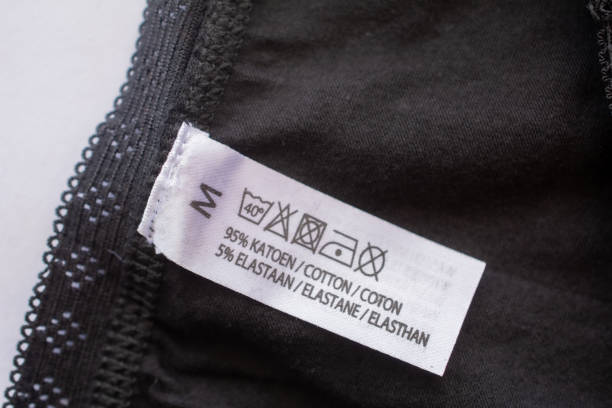ER_iron_low_temp: (314, 224, 363, 272)
ER_no_bleach: (257, 196, 306, 244)
ER_no_dry_clean: (352, 236, 393, 285)
ER_no_tumble_dry: (287, 206, 332, 259)
ER_wash_40: (234, 181, 282, 230)
